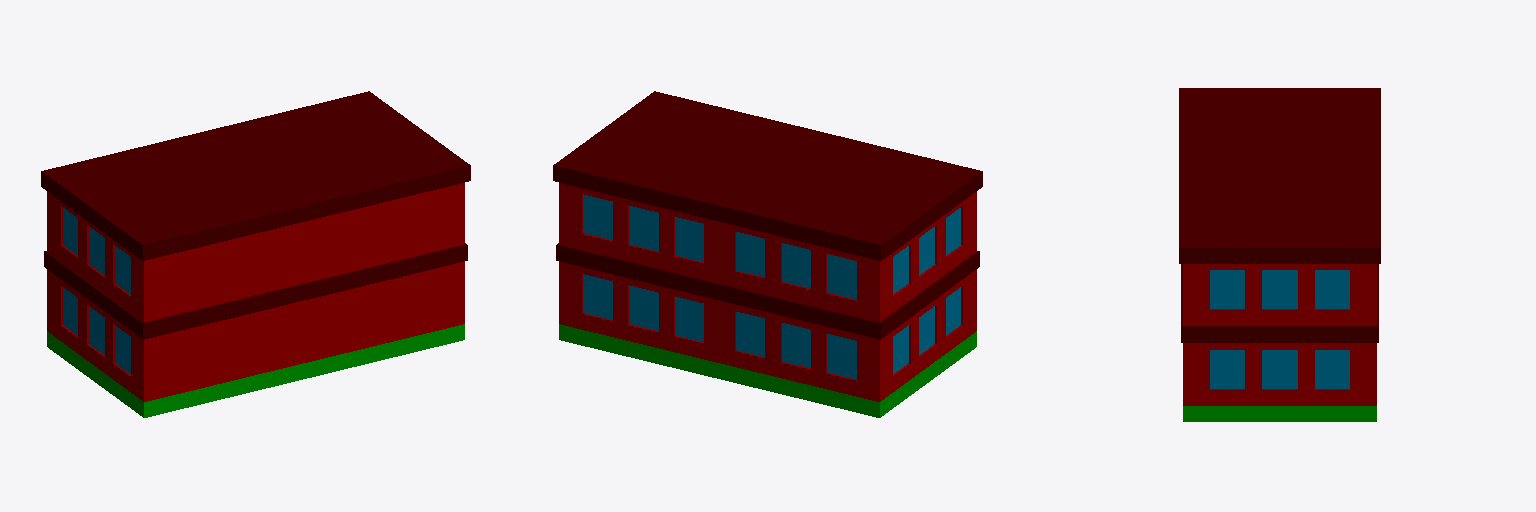
Rendered from School10.obj.
3 views of the same model, side by side, from view 1: azimuth 30°, elevation 25°; view 2: azimuth 150°, elevation 25°; view 3: azimuth 270°, elevation 25° (orthographic).
Visible parts, largest first — view 1: Cube; view 2: Cube; view 3: Cube.
Part boxes in pixels (bbox=[...]): Cube: bbox=[41, 91, 470, 417]; Cube: bbox=[553, 91, 982, 417]; Cube: bbox=[1179, 88, 1380, 421].
Size of the model in its own units: 43 by 22 by 23.